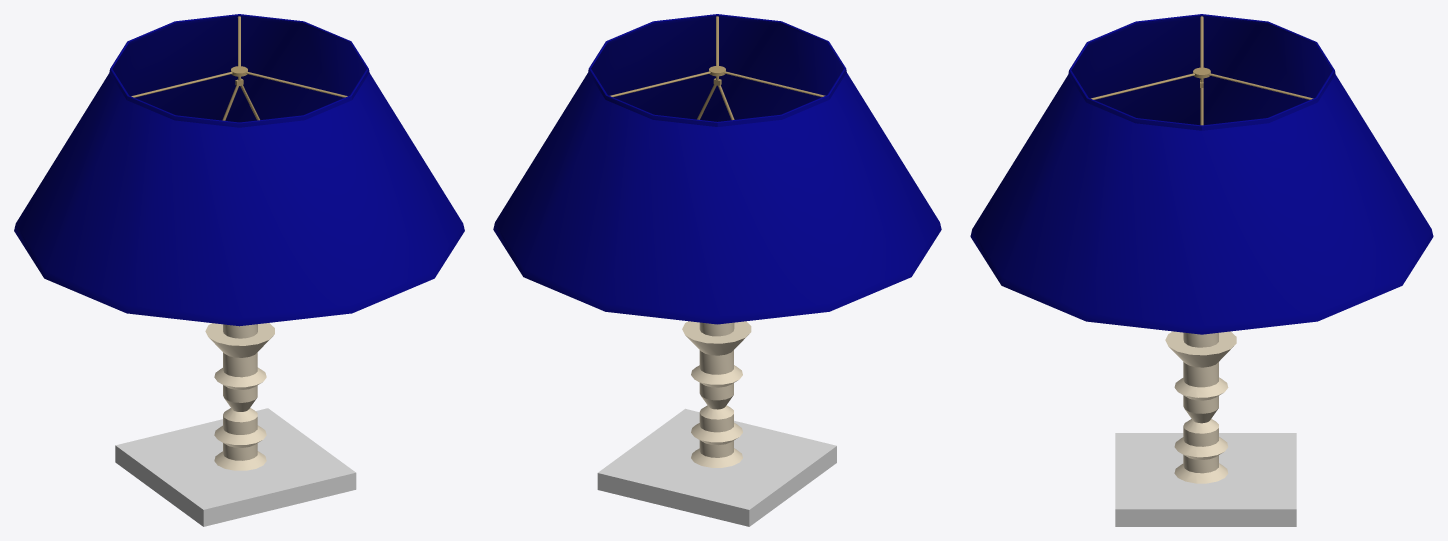
The model's file is sh-contrib-desk-lamp1.glb.
3 renders of one model, left to right at view 1: azimuth 30°, elevation 25°; view 2: azimuth 150°, elevation 25°; view 3: azimuth 270°, elevation 25°, orthographic. The views are drawn at different scales.
Visible parts, largest first — view 1: Object01616_2_2, Object013236_4_4, Object01_1_1, Object011120_3_3; view 2: Object01616_2_2, Object013236_4_4, Object01_1_1, Object011120_3_3; view 3: Object01616_2_2, Object013236_4_4, Object01_1_1, Object011120_3_3.
Part boxes in pixels (<box>): Object01616_2_2: <box>14,14,464,326</box>; Object013236_4_4: <box>115,408,356,526</box>; Object01_1_1: <box>205,323,274,470</box>; Object011120_3_3: <box>131,16,347,120</box>; Object01616_2_2: <box>493,14,941,324</box>; Object013236_4_4: <box>597,408,836,526</box>; Object01_1_1: <box>682,321,751,467</box>; Object011120_3_3: <box>610,16,825,120</box>; Object01616_2_2: <box>970,14,1433,334</box>; Object013236_4_4: <box>1115,433,1296,526</box>; Object01_1_1: <box>1165,331,1236,483</box>; Object011120_3_3: <box>1091,16,1313,125</box>.
Bounding box in the file's own units: 1 × 1 × 1.
